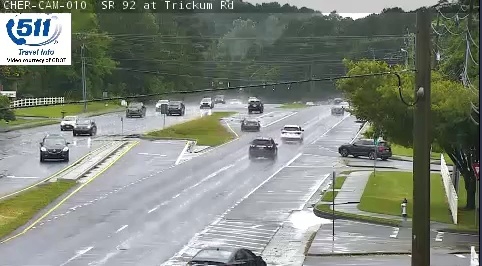car: (249, 139, 276, 157), (279, 125, 303, 140), (241, 118, 260, 132)
